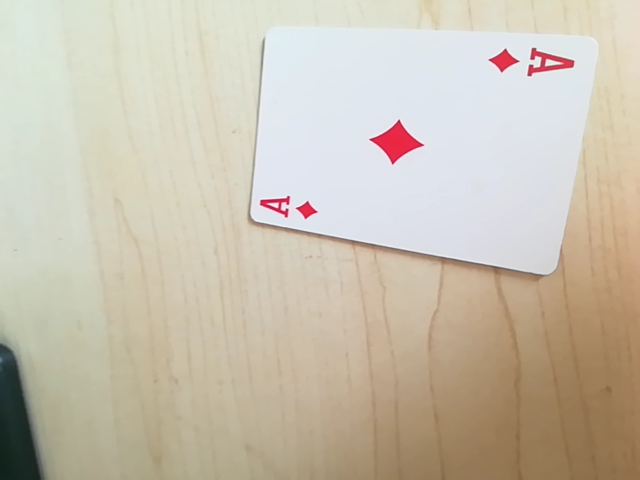fk a: (489, 42, 578, 83), (253, 189, 323, 226)
